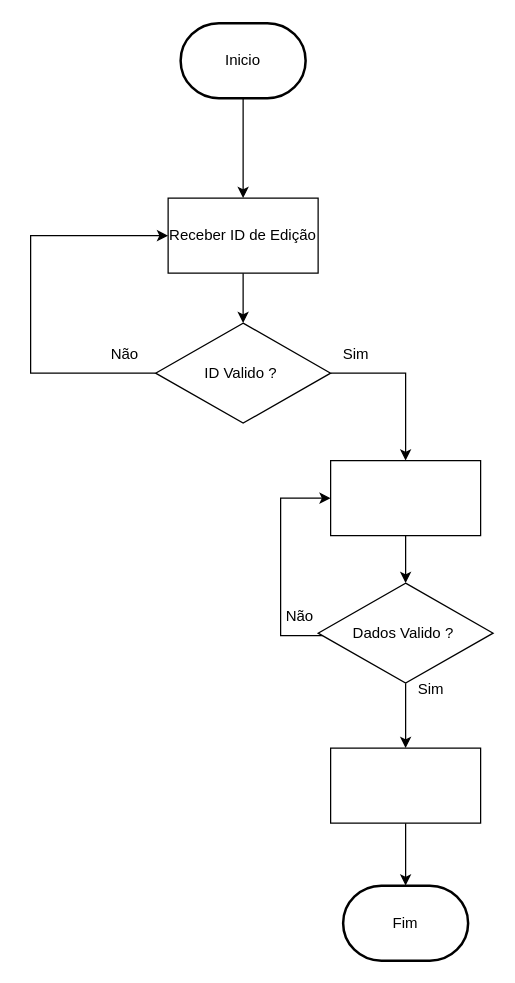
Image size: 515x983. Some labels were removed from this diagram. The box of each missing label's shape, as (x1, y1, x2, y2) in pixels:
Realizar cadastro dos novos dados: (329, 747, 481, 823)
Realizar Edição: (329, 459, 481, 536)
